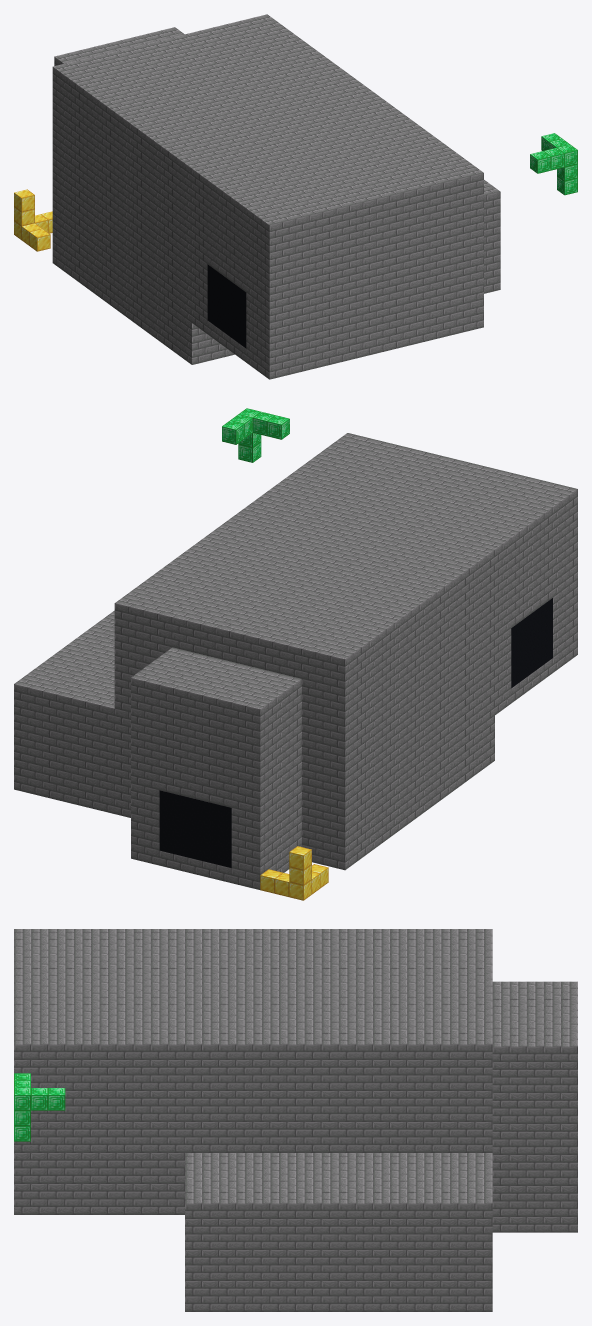
The model's file is 2 Medium A.obj.
3 views of the same model, one above another, from view 1: azimuth 30°, elevation 25°; view 2: azimuth 150°, elevation 25°; view 3: azimuth 270°, elevation 25° (orthographic). The views are drawn at different scales.
Parts seen in each view (by area): view 1: Stone_Bricks, Black_Concrete, Block_of_Emerald, Block_of_Gold; view 2: Stone_Bricks, Black_Concrete, Block_of_Gold, Block_of_Emerald; view 3: Stone_Bricks, Block_of_Emerald, Stone_Brick_Slab.
Part boxes in pixels (x1,y1,x2,y2): Stone_Bricks: (52, 14, 500, 379); Black_Concrete: (207, 264, 246, 348); Block_of_Emerald: (530, 133, 577, 195); Block_of_Gold: (14, 189, 52, 251); Stone_Bricks: (14, 433, 577, 889); Black_Concrete: (159, 598, 552, 867); Block_of_Gold: (260, 846, 328, 900); Block_of_Emerald: (222, 408, 289, 462); Stone_Bricks: (14, 929, 577, 1311); Block_of_Emerald: (14, 1073, 65, 1141); Stone_Brick_Slab: (492, 1010, 560, 1017).
Size of the model in its own units: 23 by 14 by 33.
9 materials, 9 textured.
